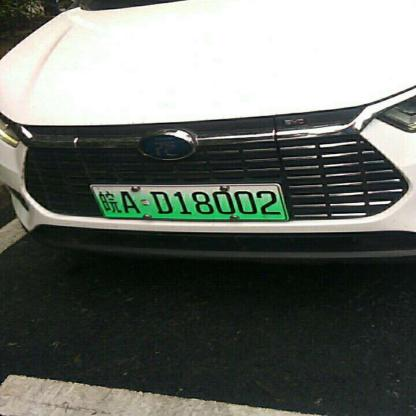lp: (86, 184, 286, 219)
